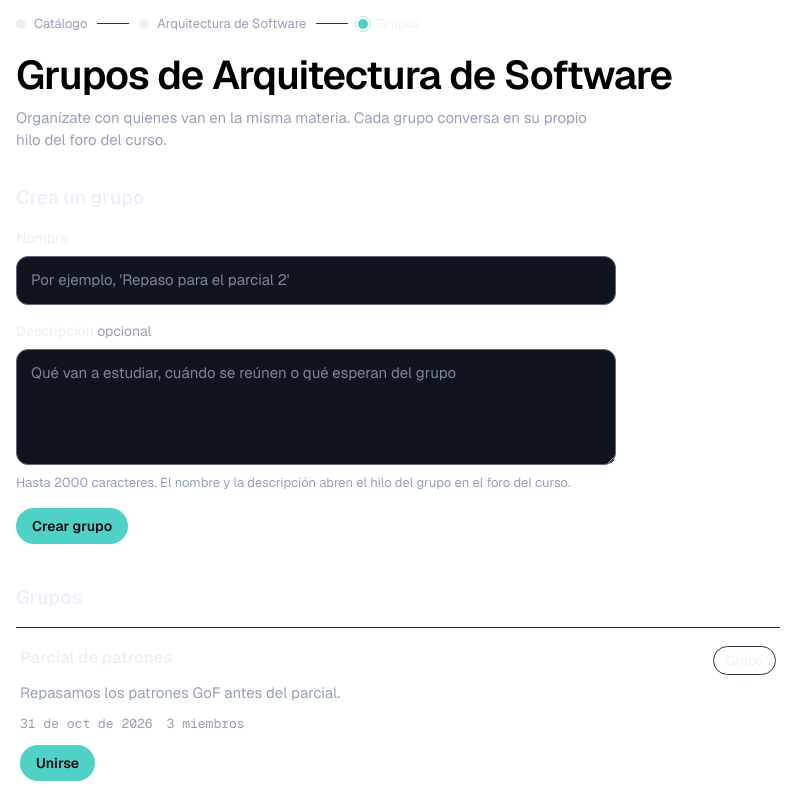
Test: Unirse a un grupo de estudio y salir de él (HU405) › si ya era miembro, por ejemplo desde otra pestaña, lo da por hecho
Click the button with aria-label "Unirse al grupo Parcial de patrones" at (58, 763), box 20,745 -> 95,781
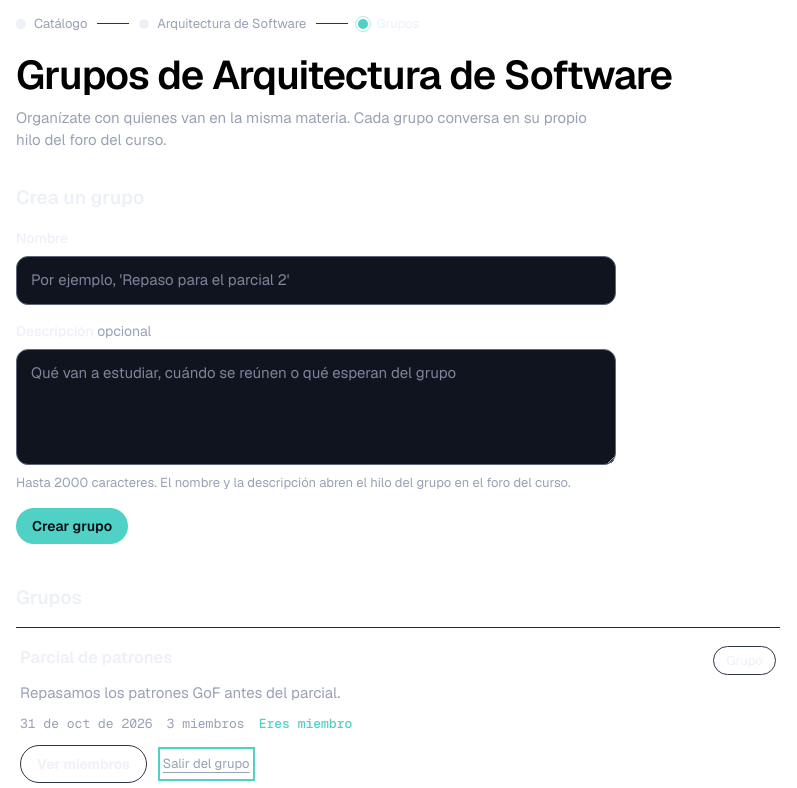
Now the text "Eres miembro" is shown, box 259,714 -> 352,733
